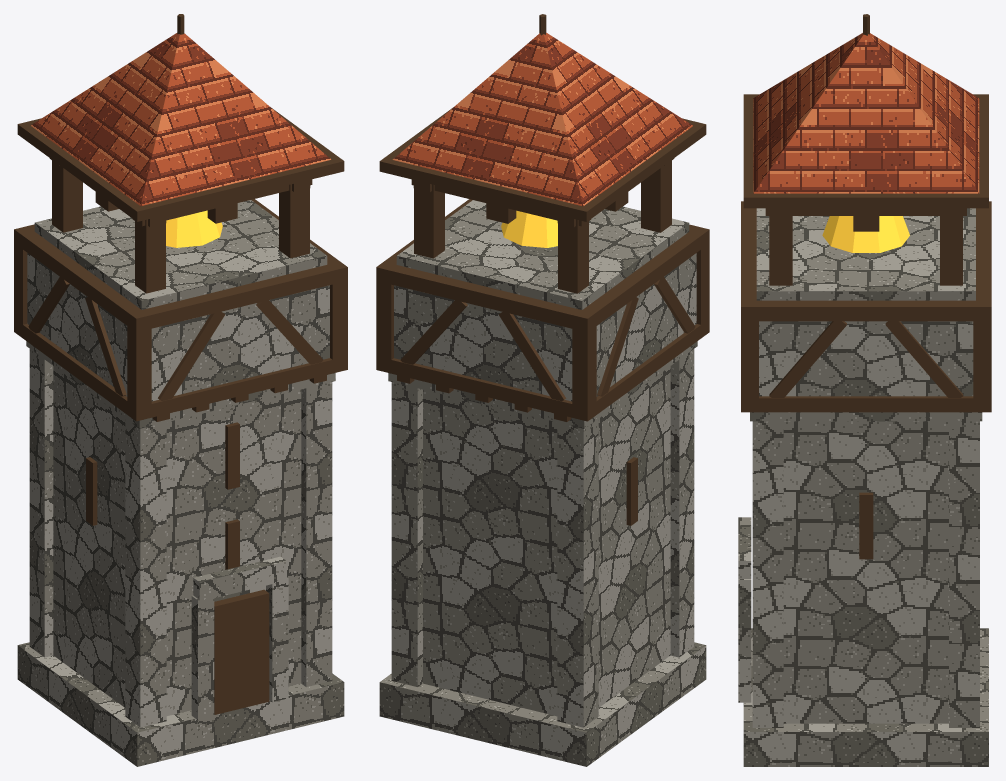
The model's file is bell_tower_t2.glb.
The picture shows the model from 3 angles, left to right: view 1: azimuth 30°, elevation 25°; view 2: azimuth 150°, elevation 25°; view 3: azimuth 270°, elevation 25°; orthographic projection. The views are drawn at different scales.
Parts seen in each view (by area): view 1: base_shaft, pyramid_roof, storey_infill, belfry_floor, plinth, corner_pier_3, corner_pier_1, corner_pier_2, door_slab, storey_plate_y1, storey_plate_x1, storey_sill_y1 (+23 smaller); view 2: base_shaft, pyramid_roof, storey_infill, plinth, belfry_floor, corner_pier_2, corner_pier_0, corner_pier_3, storey_plate_y0, storey_plate_x1, eave_trim_y0, storey_sill_y0 (+16 smaller); view 3: base_shaft, pyramid_roof, storey_infill, belfry_floor, plinth, corner_pier_1, corner_pier_0, storey_plate_x0, storey_sill_x0, eave_trim_x0, bell_body, string_course (+14 smaller).
Boxes of the visible parts, x1,y1,x2,y2 form: base_shaft: (53,366,301,715); pyramid_roof: (30,33,330,206); storey_infill: (27,253,329,401); belfry_floor: (34,200,327,309); plinth: (17,642,344,766); corner_pier_3: (125,419,166,727); corner_pier_1: (301,382,332,686); corner_pier_2: (29,349,53,657); door_slab: (214,589,269,714); storey_plate_y1: (128,262,347,331); storey_plate_x1: (14,229,149,332); storey_sill_y1: (128,358,345,421); base_shaft: (423,366,670,715); pyramid_roof: (392,33,693,206); storey_infill: (394,253,696,401); plinth: (379,642,706,766); belfry_floor: (396,200,689,309); corner_pier_2: (557,419,598,727); corner_pier_0: (391,382,422,686); corner_pier_3: (670,349,694,657); storey_plate_y0: (376,262,595,331); storey_plate_x1: (574,226,708,332); eave_trim_y0: (379,158,592,221); storey_sill_y0: (376,356,595,420); base_shaft: (783,421,948,723); pyramid_roof: (753,33,979,193); storey_infill: (759,321,973,396); belfry_floor: (756,208,975,300); plinth: (743,628,988,766); corner_pier_1: (752,421,783,727); corner_pier_0: (949,421,979,727); storey_plate_x0: (741,300,991,321); storey_sill_x0: (741,396,991,412); eave_trim_x0: (743,192,988,208); bell_body: (822,216,909,252); string_course: (750,412,982,421).
Size of what is drawn, in the model's own units: 1.94 by 5.98 by 1.96.
4 materials, 2 textured.
